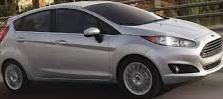Cars: (1, 3, 223, 99)
